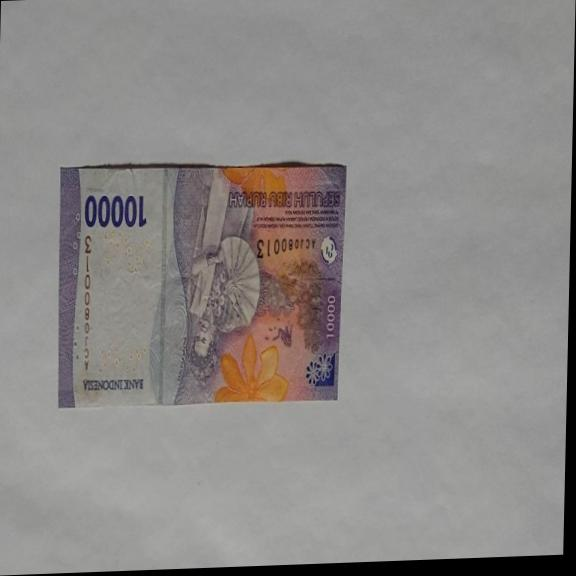Kertas: (55, 156, 346, 412), (83, 191, 148, 232)
